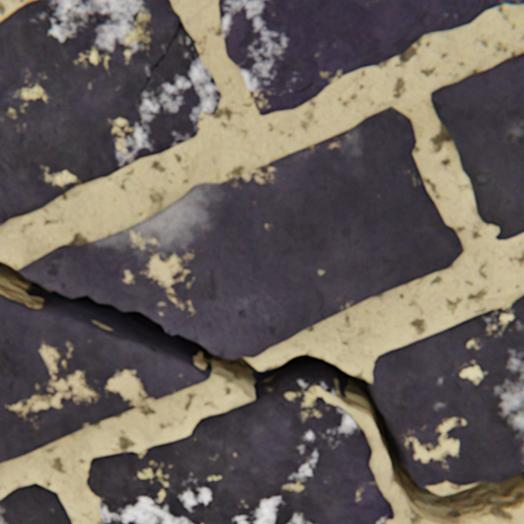brick: (0, 0, 220, 227), (87, 388, 392, 523), (218, 0, 523, 116), (371, 294, 523, 485), (430, 54, 523, 240), (0, 482, 73, 523)
broken_brick: (20, 107, 462, 358), (0, 294, 210, 462)
crack: (0, 261, 523, 523), (143, 25, 180, 93)
